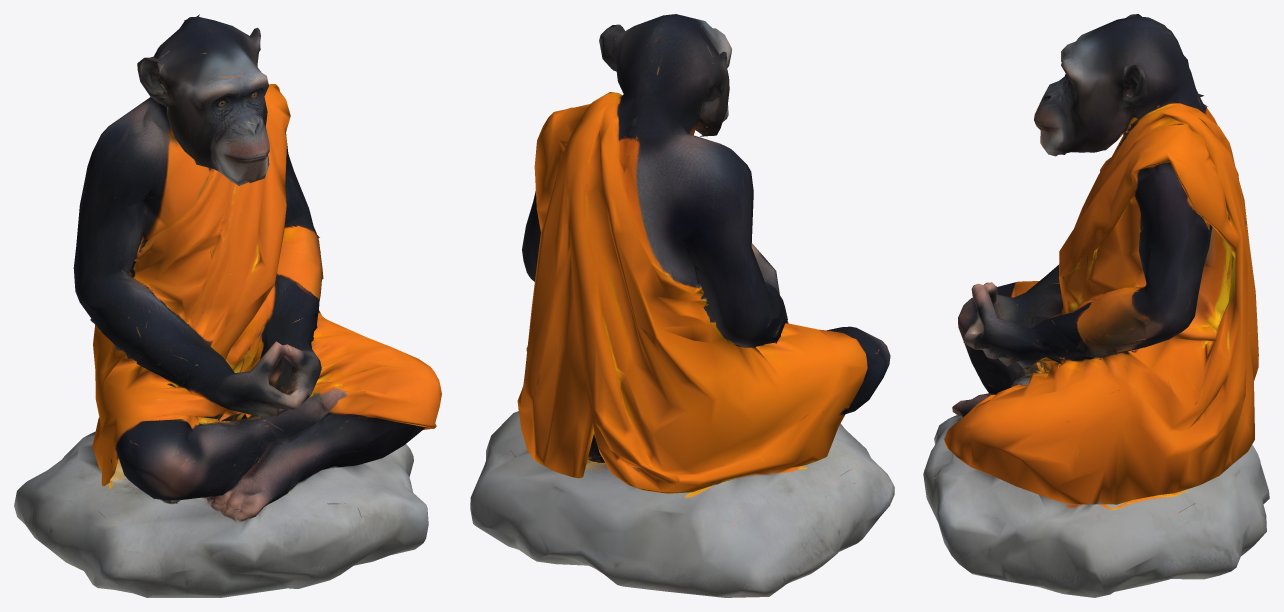
Rendered from monkey_small.glb.
3 renders of one model, left to right at view 1: azimuth 30°, elevation 25°; view 2: azimuth 150°, elevation 25°; view 3: azimuth 270°, elevation 25°, orthographic. The views are drawn at different scales.
Parts seen in each view (by area): view 1: Mesh1.0; view 2: Mesh1.0; view 3: Mesh1.0.
Boxes of the visible parts, bbox=[...] form: Mesh1.0: bbox=[14, 14, 441, 597]; Mesh1.0: bbox=[470, 14, 894, 597]; Mesh1.0: bbox=[923, 14, 1269, 597].
Bounding box in the file's own units: 1.39 × 1.9 × 1.2.
Materials: 1 (1 with a texture image).
